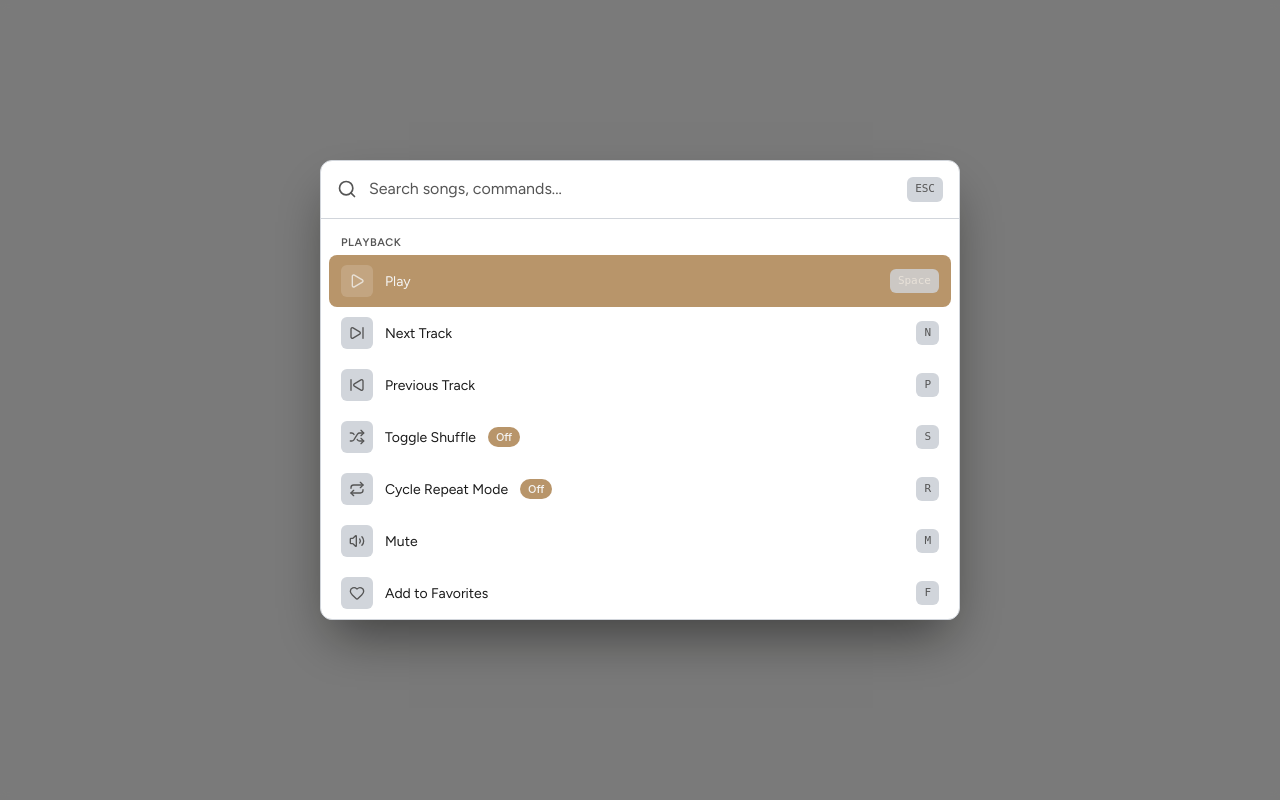
Test: CommandMenu › song search › shows Playing badge for current song in search
Type "Test" into the dropdown with placeholder "Search songs, commands..." at (632, 189), box top-left (369, 177), bottom-right (895, 201)
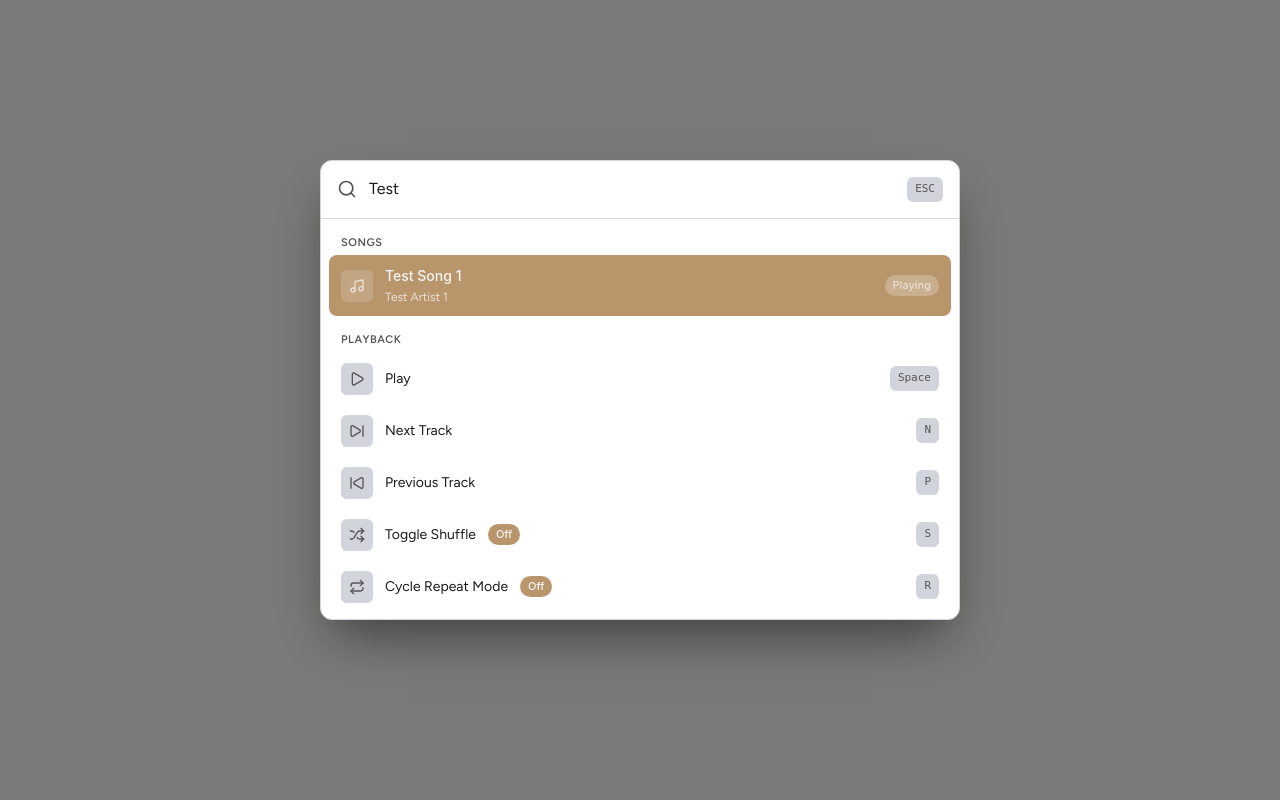
Result: the text "Playing" is shown at top-left (885, 275), bottom-right (939, 296)
